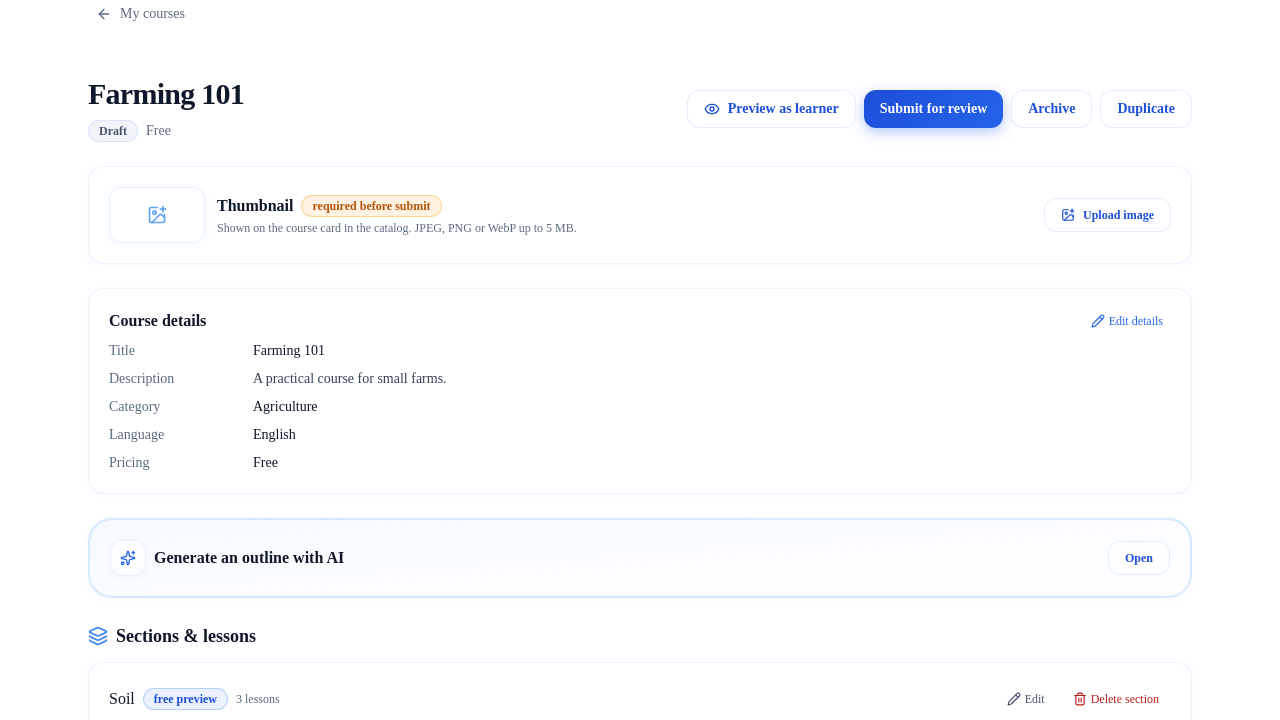
Test case: course authoring page › archive asks first: Cancel sends nothing, Confirm archives
The image size is (1280, 720).
What coordinates should you click on to do the following:
click the button "Archive"
I would click on:
 (1052, 109)
Its box is [1011, 90, 1092, 128].
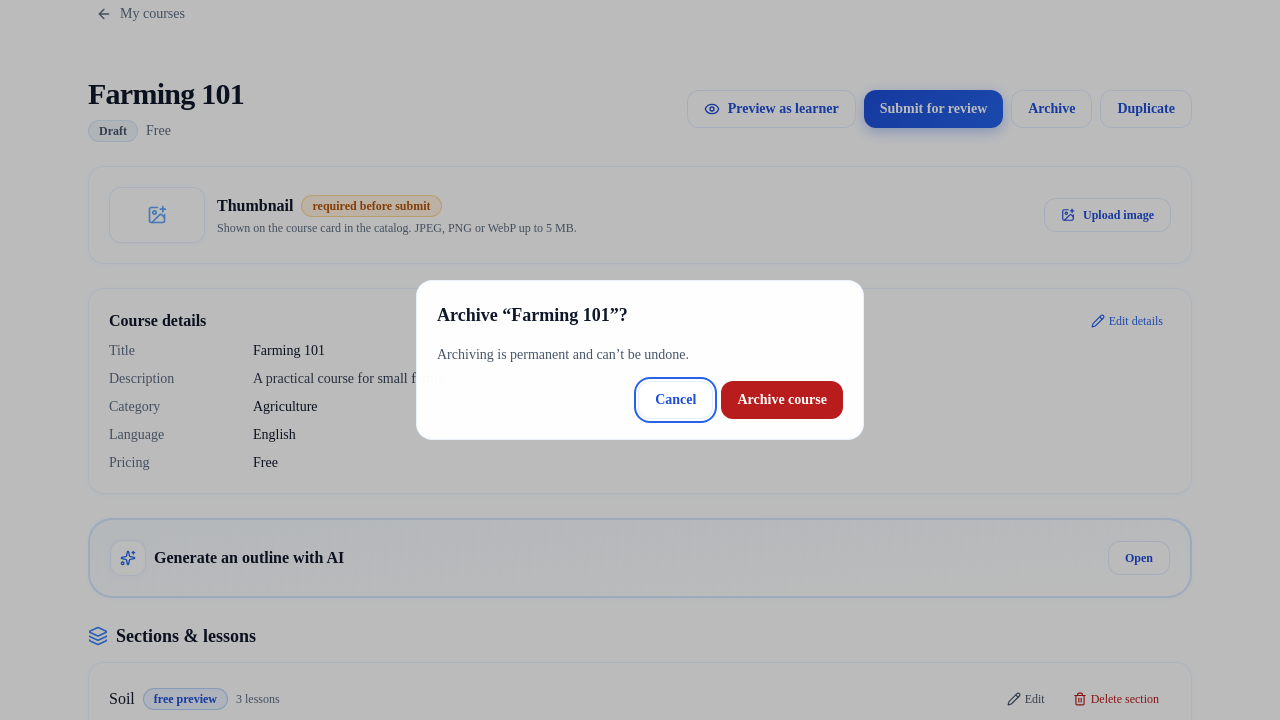
Expected: the dialog shows "Archive “Farming 101”?", [437, 305, 628, 325]
What coordinates should you click on to do the following:
click the button "Cancel"
I would click on:
 (676, 400)
Its box is [638, 381, 713, 419].
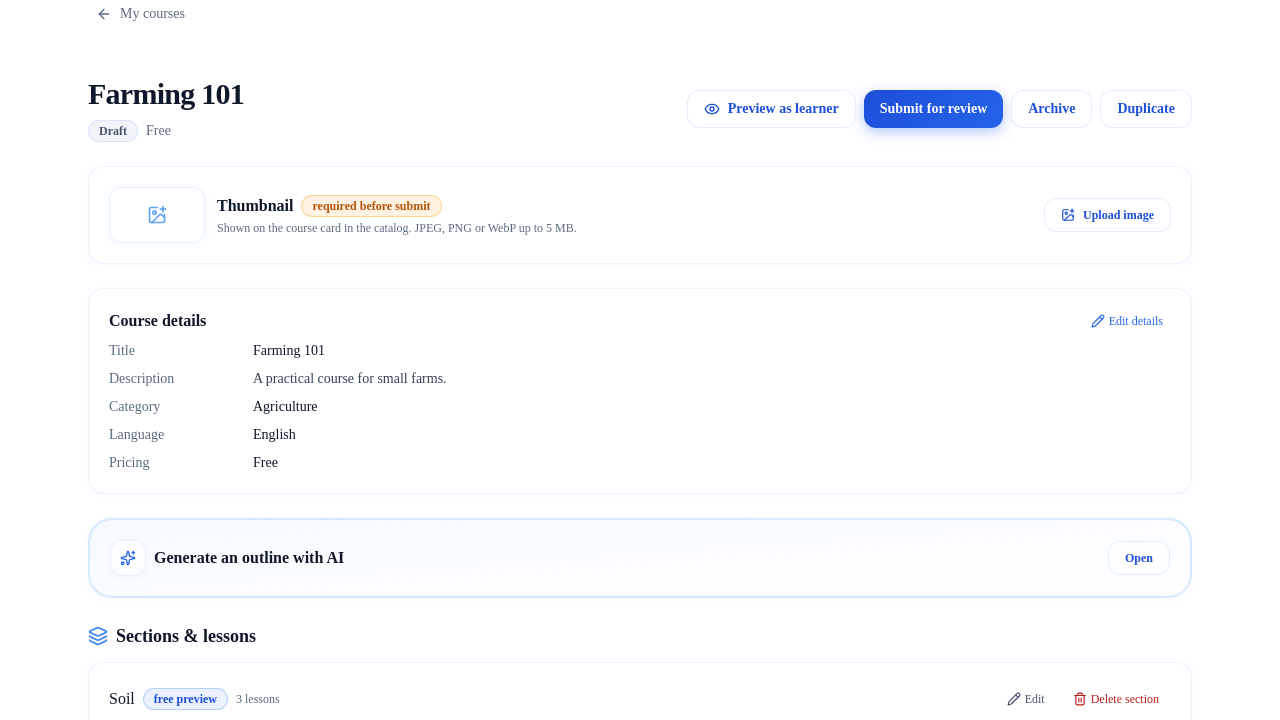
What coordinates should you click on to do the following:
click the button "Archive"
I would click on:
 (1052, 109)
Its box is [1011, 90, 1092, 128].
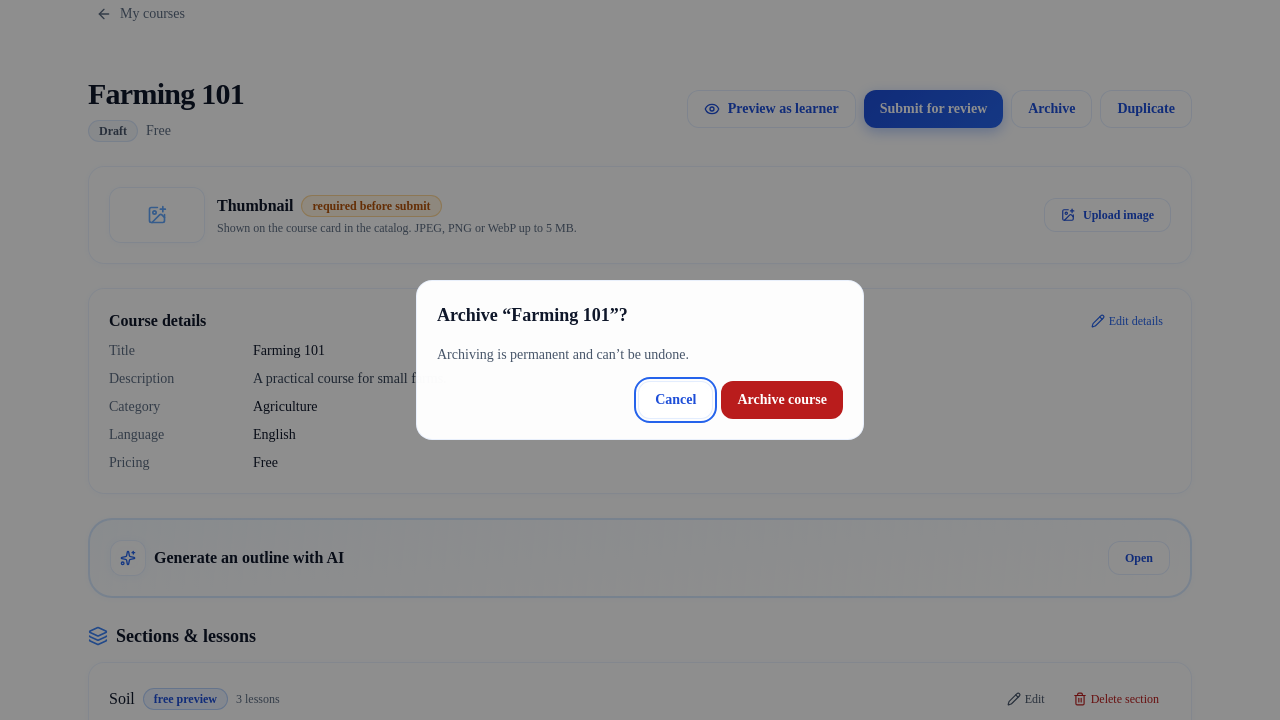
What coordinates should you click on to do the following:
click the button "Archive course"
I would click on:
 (782, 400)
Its box is [721, 381, 843, 419].
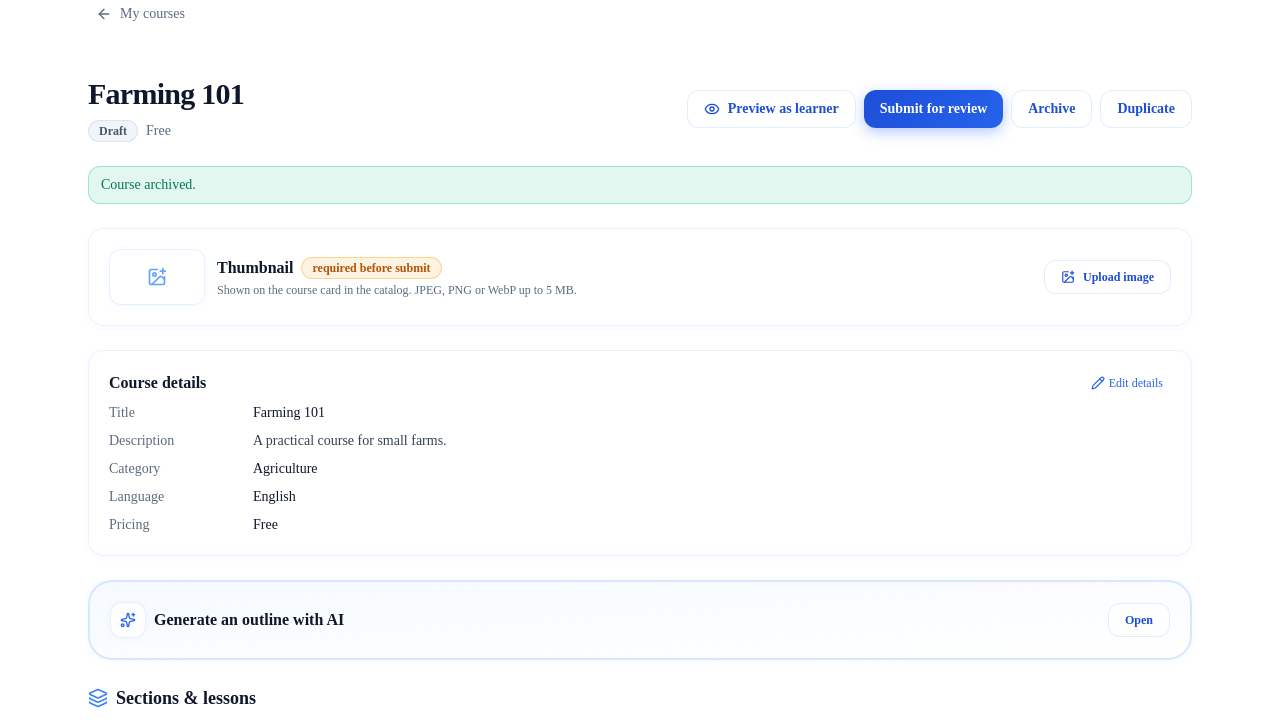
Expected: the text "Course archived." is shown, [88, 166, 1192, 204]
